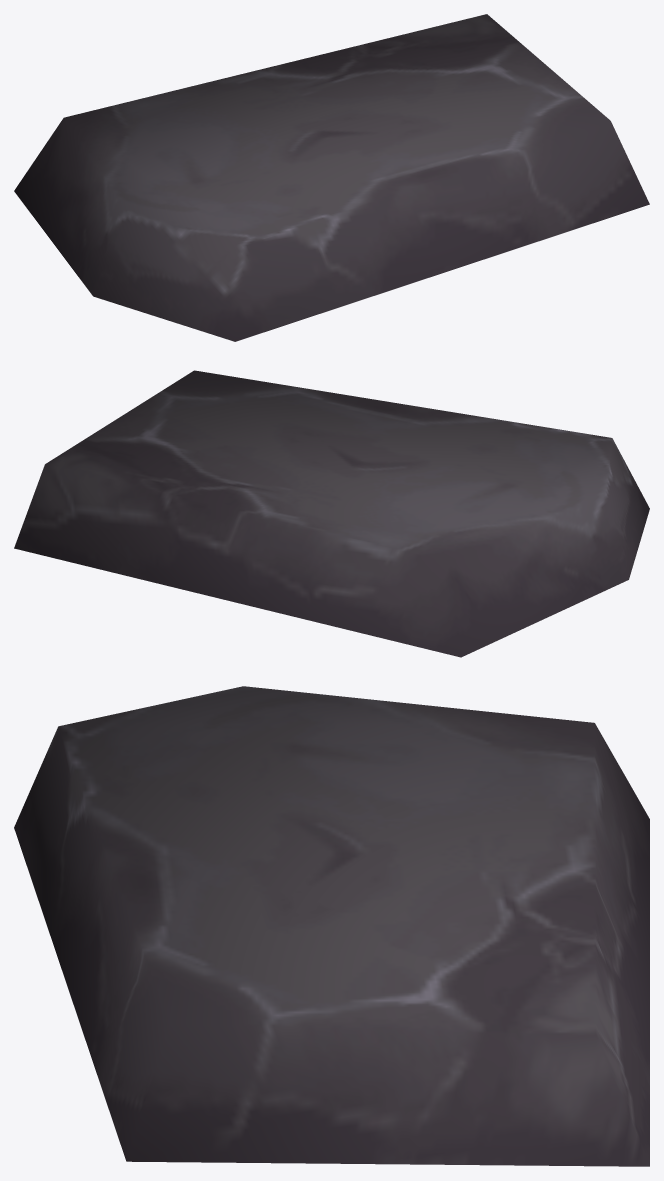
File: yw_shanlin_stones_025.FBX
3 renders of one model, top to bottom at view 1: azimuth 30°, elevation 25°; view 2: azimuth 150°, elevation 25°; view 3: azimuth 270°, elevation 25°, orthographic. The views are drawn at different scales.
Parts seen in each view (by area): view 1: yw_shanlin_stones_025; view 2: yw_shanlin_stones_025; view 3: yw_shanlin_stones_025.
Boxes of the visible parts, x1,y1,x2,y2 form: yw_shanlin_stones_025: (14, 14, 649, 341); yw_shanlin_stones_025: (14, 370, 649, 657); yw_shanlin_stones_025: (14, 686, 649, 1166).
Size of the model in its own units: 109 by 15.84 by 76.25.
